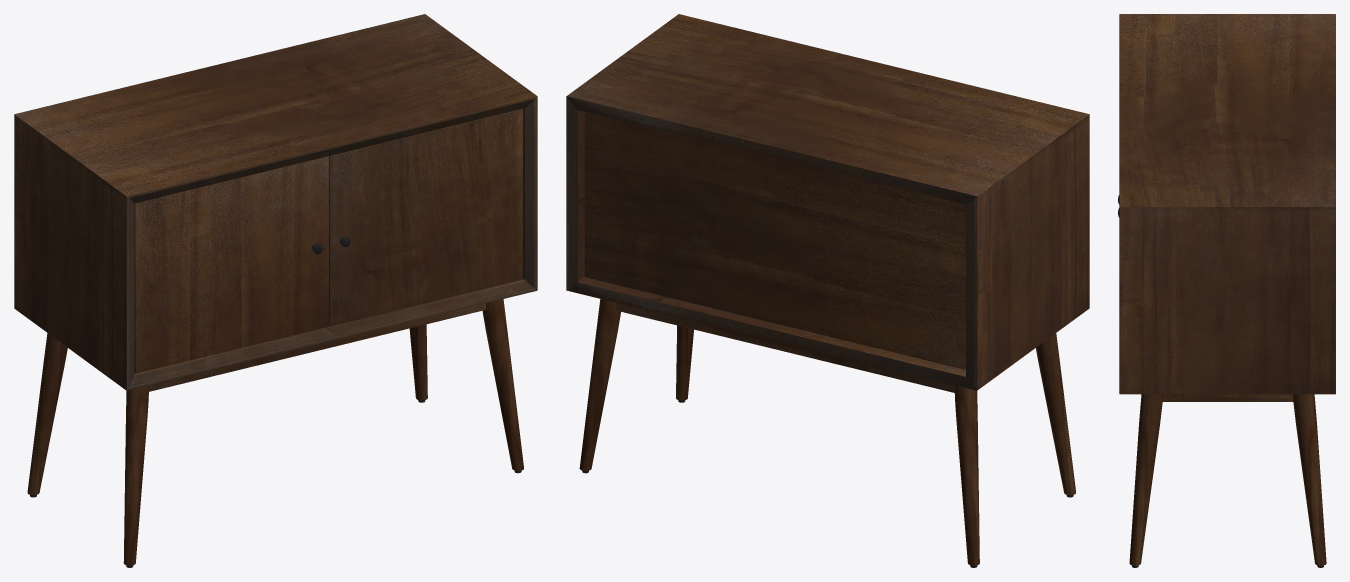
The model's file is abo-B07HSBJ7FW.glb.
3 renders of one model, left to right at view 1: azimuth 30°, elevation 25°; view 2: azimuth 150°, elevation 25°; view 3: azimuth 270°, elevation 25°, orthographic. The views are drawn at different scales.
Size of the model in its own units: 0.743 by 0.654 by 0.354.
Materials: 1 (1 with a texture image).
